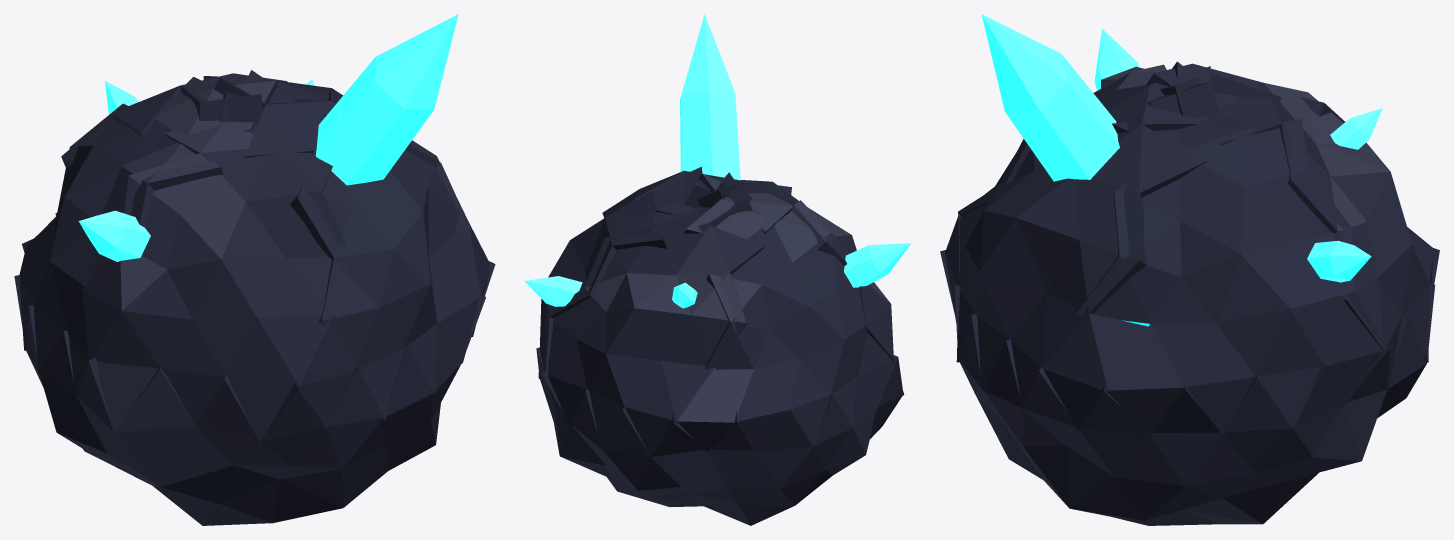
3 views of the same model, side by side, from view 1: azimuth 30°, elevation 25°; view 2: azimuth 150°, elevation 25°; view 3: azimuth 270°, elevation 25° (orthographic). The views are drawn at different scales.
Parts seen in each view (by area): view 1: Petal_3, Base, Petal_4, Petal_2, Crystals, Petal_1, Petal_0; view 2: Petal_1, Petal_2, Base, Crystals, Petal_0, Petal_3, Petal_4; view 3: Petal_0, Base, Petal_4, Petal_1, Crystals, Petal_3, Petal_2.
Boxes of the visible parts, <box> form: Petal_3: <box>82,70,357,441</box>; Base: <box>14,213,495,525</box>; Petal_4: <box>214,77,489,420</box>; Petal_2: <box>19,77,278,398</box>; Crystals: <box>78,14,458,261</box>; Petal_1: <box>24,73,301,249</box>; Petal_0: <box>203,76,470,234</box>; Petal_1: <box>544,172,764,456</box>; Petal_2: <box>684,173,893,453</box>; Base: <box>536,347,903,525</box>; Crystals: <box>524,14,911,308</box>; Petal_0: <box>538,167,751,400</box>; Petal_3: <box>684,174,904,395</box>; Petal_4: <box>602,171,791,217</box>; Petal_0: <box>1073,61,1385,436</box>; Base: <box>940,246,1439,525</box>; Petal_4: <box>956,66,1210,430</box>; Petal_1: <box>1145,63,1433,391</box>; Crystals: <box>981,14,1382,282</box>; Petal_3: <box>945,64,1219,322</box>; Petal_2: <box>1101,66,1344,122</box>.
Size of the model in its own units: 0.5687 by 0.6866 by 0.5677.
